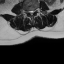CCS_normal: (30, 9, 32, 17)
LFS_normal: (34, 7, 36, 13)
LLS_normal: (32, 9, 34, 15)
RFS_stenosis: (26, 8, 28, 14)
RLS_normal: (28, 9, 30, 15)
